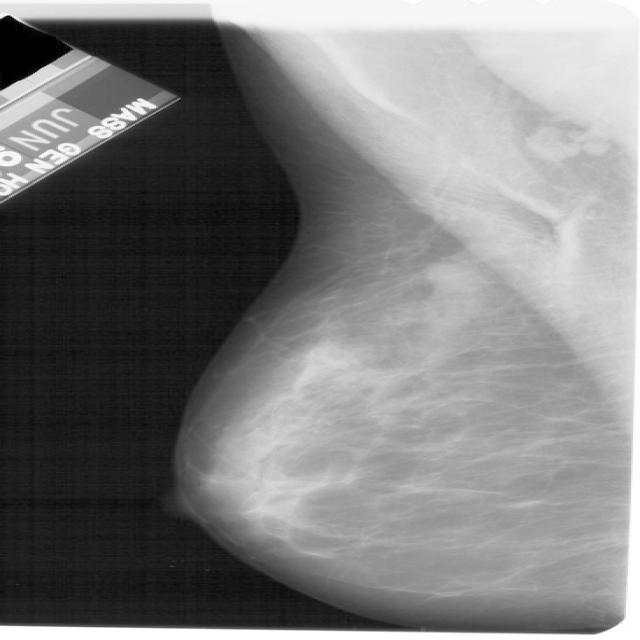tumour: (421, 257, 484, 294)
